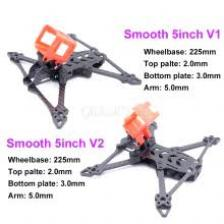drone: (80, 98, 218, 219), (6, 26, 150, 132)
